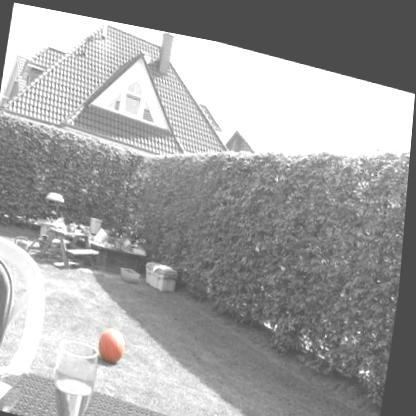basketball: (102, 321, 132, 363)
